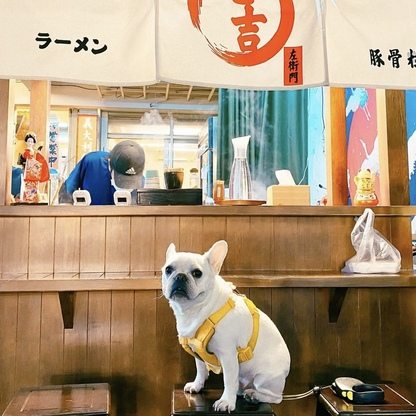bulldog: (158, 238, 295, 416)
